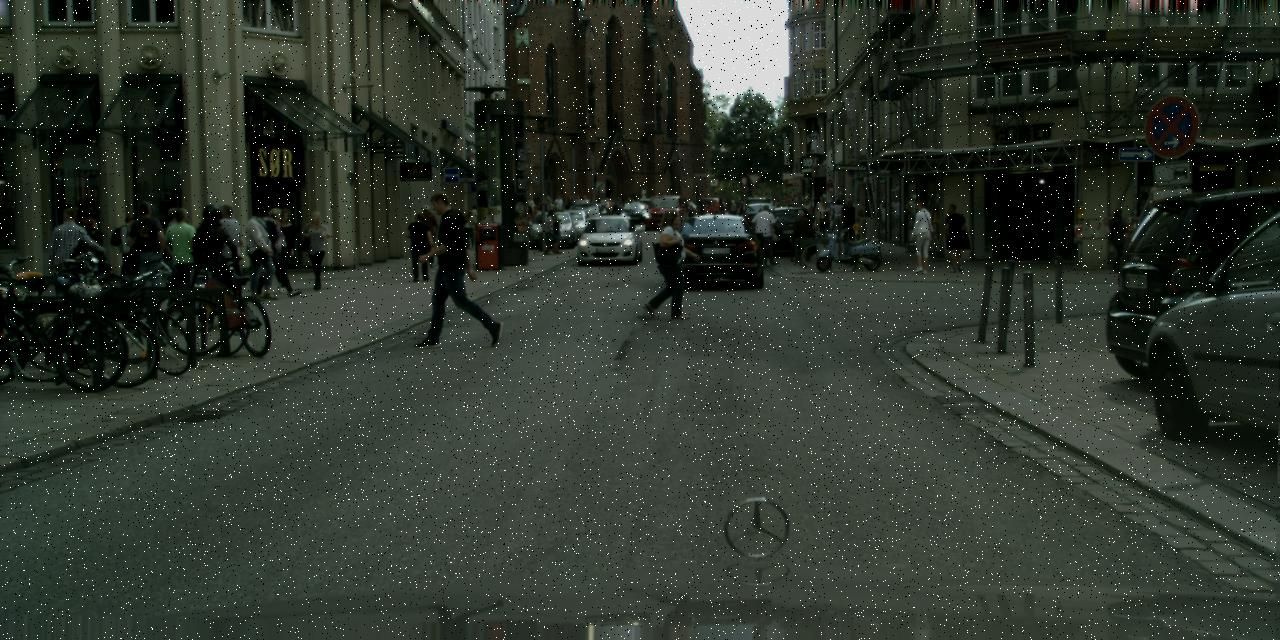ped: (422, 191, 484, 343), (46, 206, 92, 318), (646, 210, 690, 318), (124, 201, 168, 308), (190, 204, 233, 310), (159, 206, 200, 306), (69, 216, 110, 316), (241, 205, 280, 300), (1142, 184, 1180, 279), (208, 204, 245, 296), (258, 208, 294, 296), (205, 204, 239, 290), (266, 208, 300, 292), (158, 207, 192, 291), (300, 211, 332, 290), (906, 202, 936, 274), (940, 202, 969, 272), (406, 211, 434, 282), (115, 215, 143, 284), (1104, 208, 1129, 272), (414, 204, 439, 267), (754, 204, 777, 260), (840, 197, 859, 245), (544, 204, 562, 252), (542, 209, 560, 253), (810, 192, 826, 230), (831, 198, 846, 234), (462, 211, 477, 247), (818, 200, 832, 236), (814, 197, 828, 230), (851, 199, 864, 232), (799, 197, 812, 229), (468, 204, 480, 237), (552, 192, 564, 220), (792, 192, 803, 220), (614, 196, 624, 223), (780, 195, 790, 220), (715, 198, 725, 222), (772, 195, 781, 220), (681, 197, 690, 219), (728, 199, 736, 222), (735, 198, 744, 218), (697, 196, 705, 218), (590, 198, 598, 219), (580, 194, 588, 215), (524, 206, 532, 227), (686, 198, 694, 218), (573, 194, 581, 214), (526, 196, 534, 215), (602, 198, 610, 215), (531, 206, 538, 225), (566, 197, 573, 215), (634, 197, 640, 214), (538, 197, 544, 214), (626, 197, 632, 213), (544, 196, 550, 210)
